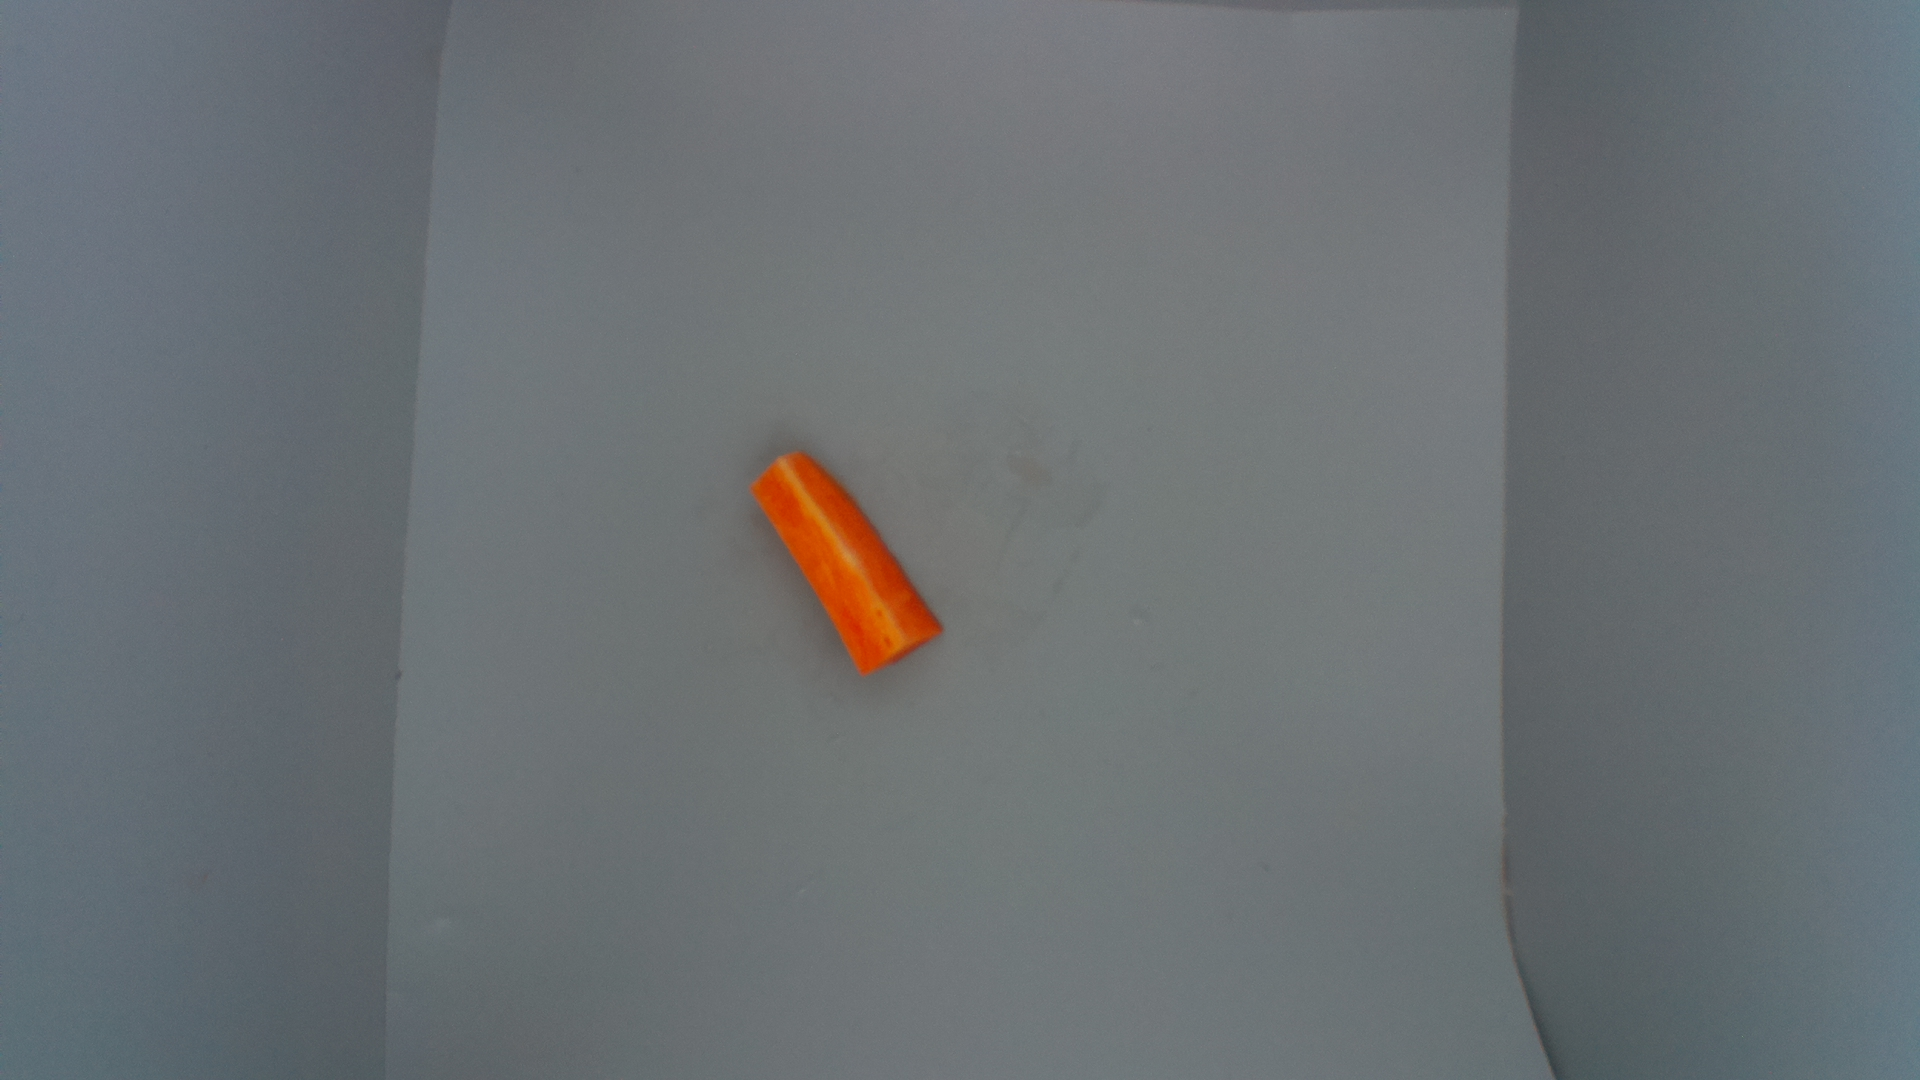carrot: (748, 446, 944, 674)
